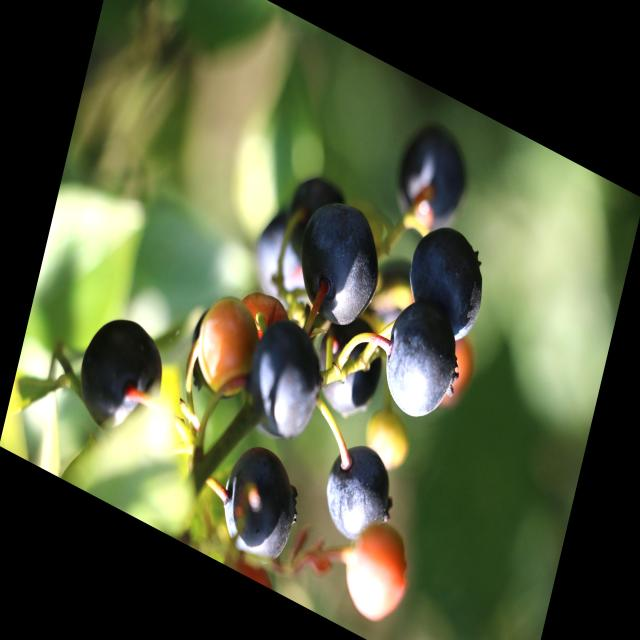blueberry: (65, 293, 178, 458), (285, 180, 395, 346), (210, 430, 315, 581), (236, 303, 336, 459), (372, 288, 473, 438), (384, 104, 481, 253), (398, 210, 497, 353), (241, 190, 336, 338), (313, 425, 406, 560), (304, 296, 394, 434), (276, 160, 354, 282)
blueberry-halfripe: (187, 284, 267, 411), (336, 512, 416, 633)
